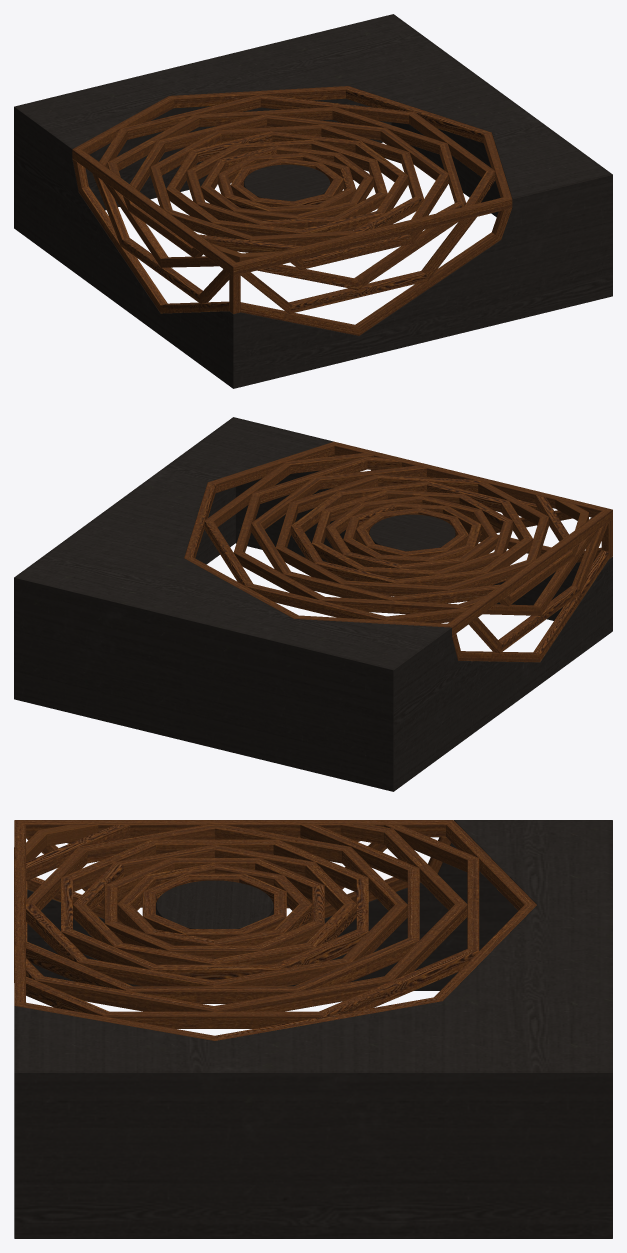
The model's file is modern_coffee_table_02.glb.
The picture shows the model from 3 angles, top to bottom: view 1: azimuth 30°, elevation 25°; view 2: azimuth 150°, elevation 25°; view 3: azimuth 270°, elevation 25°; orthographic projection. The views are drawn at different scales.
Visible parts, largest first — view 1: modern_coffee_table_02; view 2: modern_coffee_table_02; view 3: modern_coffee_table_02.
Boxes of the visible parts, x1=… form: modern_coffee_table_02: x1=14, y1=14, x2=612, y2=388; modern_coffee_table_02: x1=14, y1=417, x2=612, y2=791; modern_coffee_table_02: x1=14, y1=820, x2=612, y2=1238.
Size of the model in its own units: 1.2 by 0.3692 by 1.2.
2 materials, 2 textured.
